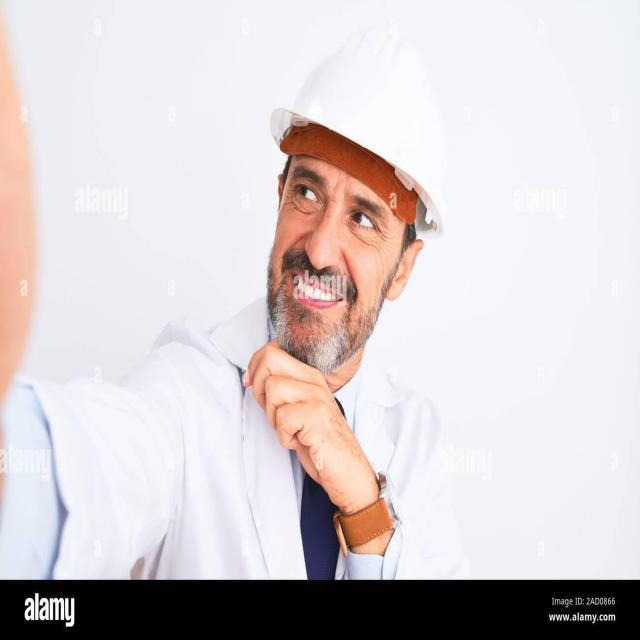hat: (268, 29, 458, 237)
